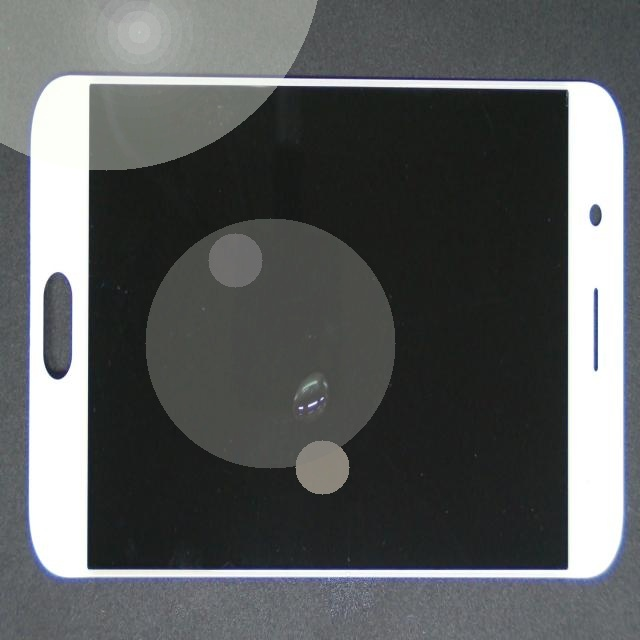oil: (177, 206, 498, 576)
